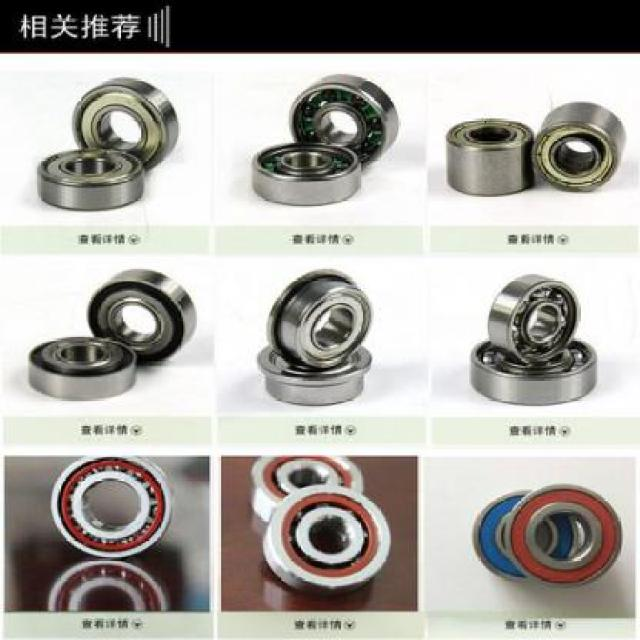Bearing: (261, 485, 395, 598), (51, 454, 176, 558), (504, 485, 625, 588), (86, 266, 200, 365), (266, 270, 372, 370), (71, 77, 182, 172), (287, 72, 398, 167), (470, 490, 582, 583), (531, 99, 629, 195), (468, 337, 598, 405), (488, 273, 578, 366), (249, 456, 364, 522), (249, 141, 362, 207), (34, 145, 145, 212), (257, 342, 371, 407), (444, 116, 534, 198), (27, 334, 138, 400), (49, 558, 172, 614)
